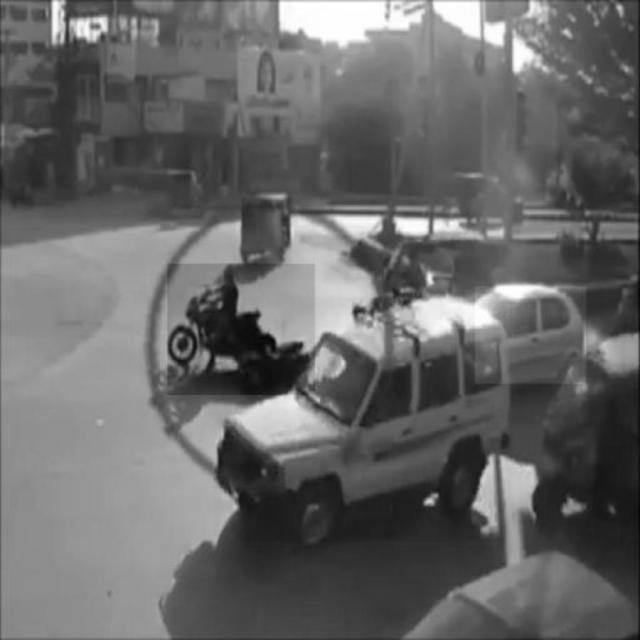accident: (168, 264, 315, 395)
vehicle: (214, 298, 512, 541), (475, 286, 586, 384), (241, 198, 291, 266)
